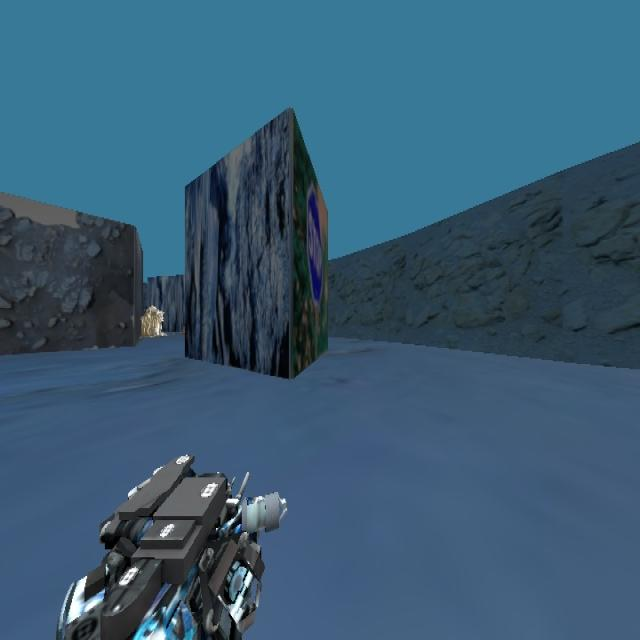Diamon: (182, 105, 330, 379)
Ice: (140, 296, 168, 348)
Mushroom: (56, 451, 288, 638)
